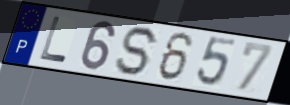5: (194, 34, 239, 89)
6: (79, 20, 117, 72), (157, 31, 195, 83)
7: (236, 40, 277, 95)
L: (38, 15, 69, 65)
S: (112, 25, 162, 78)
